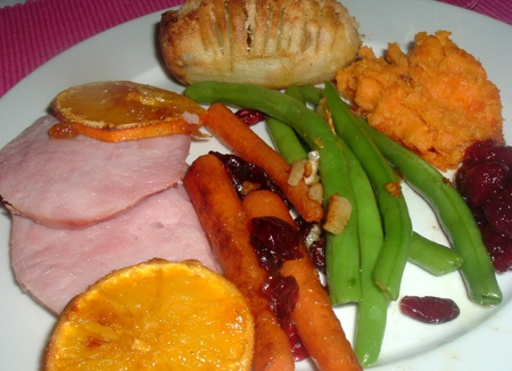background: (0, 0, 410, 215), (51, 18, 369, 188)
